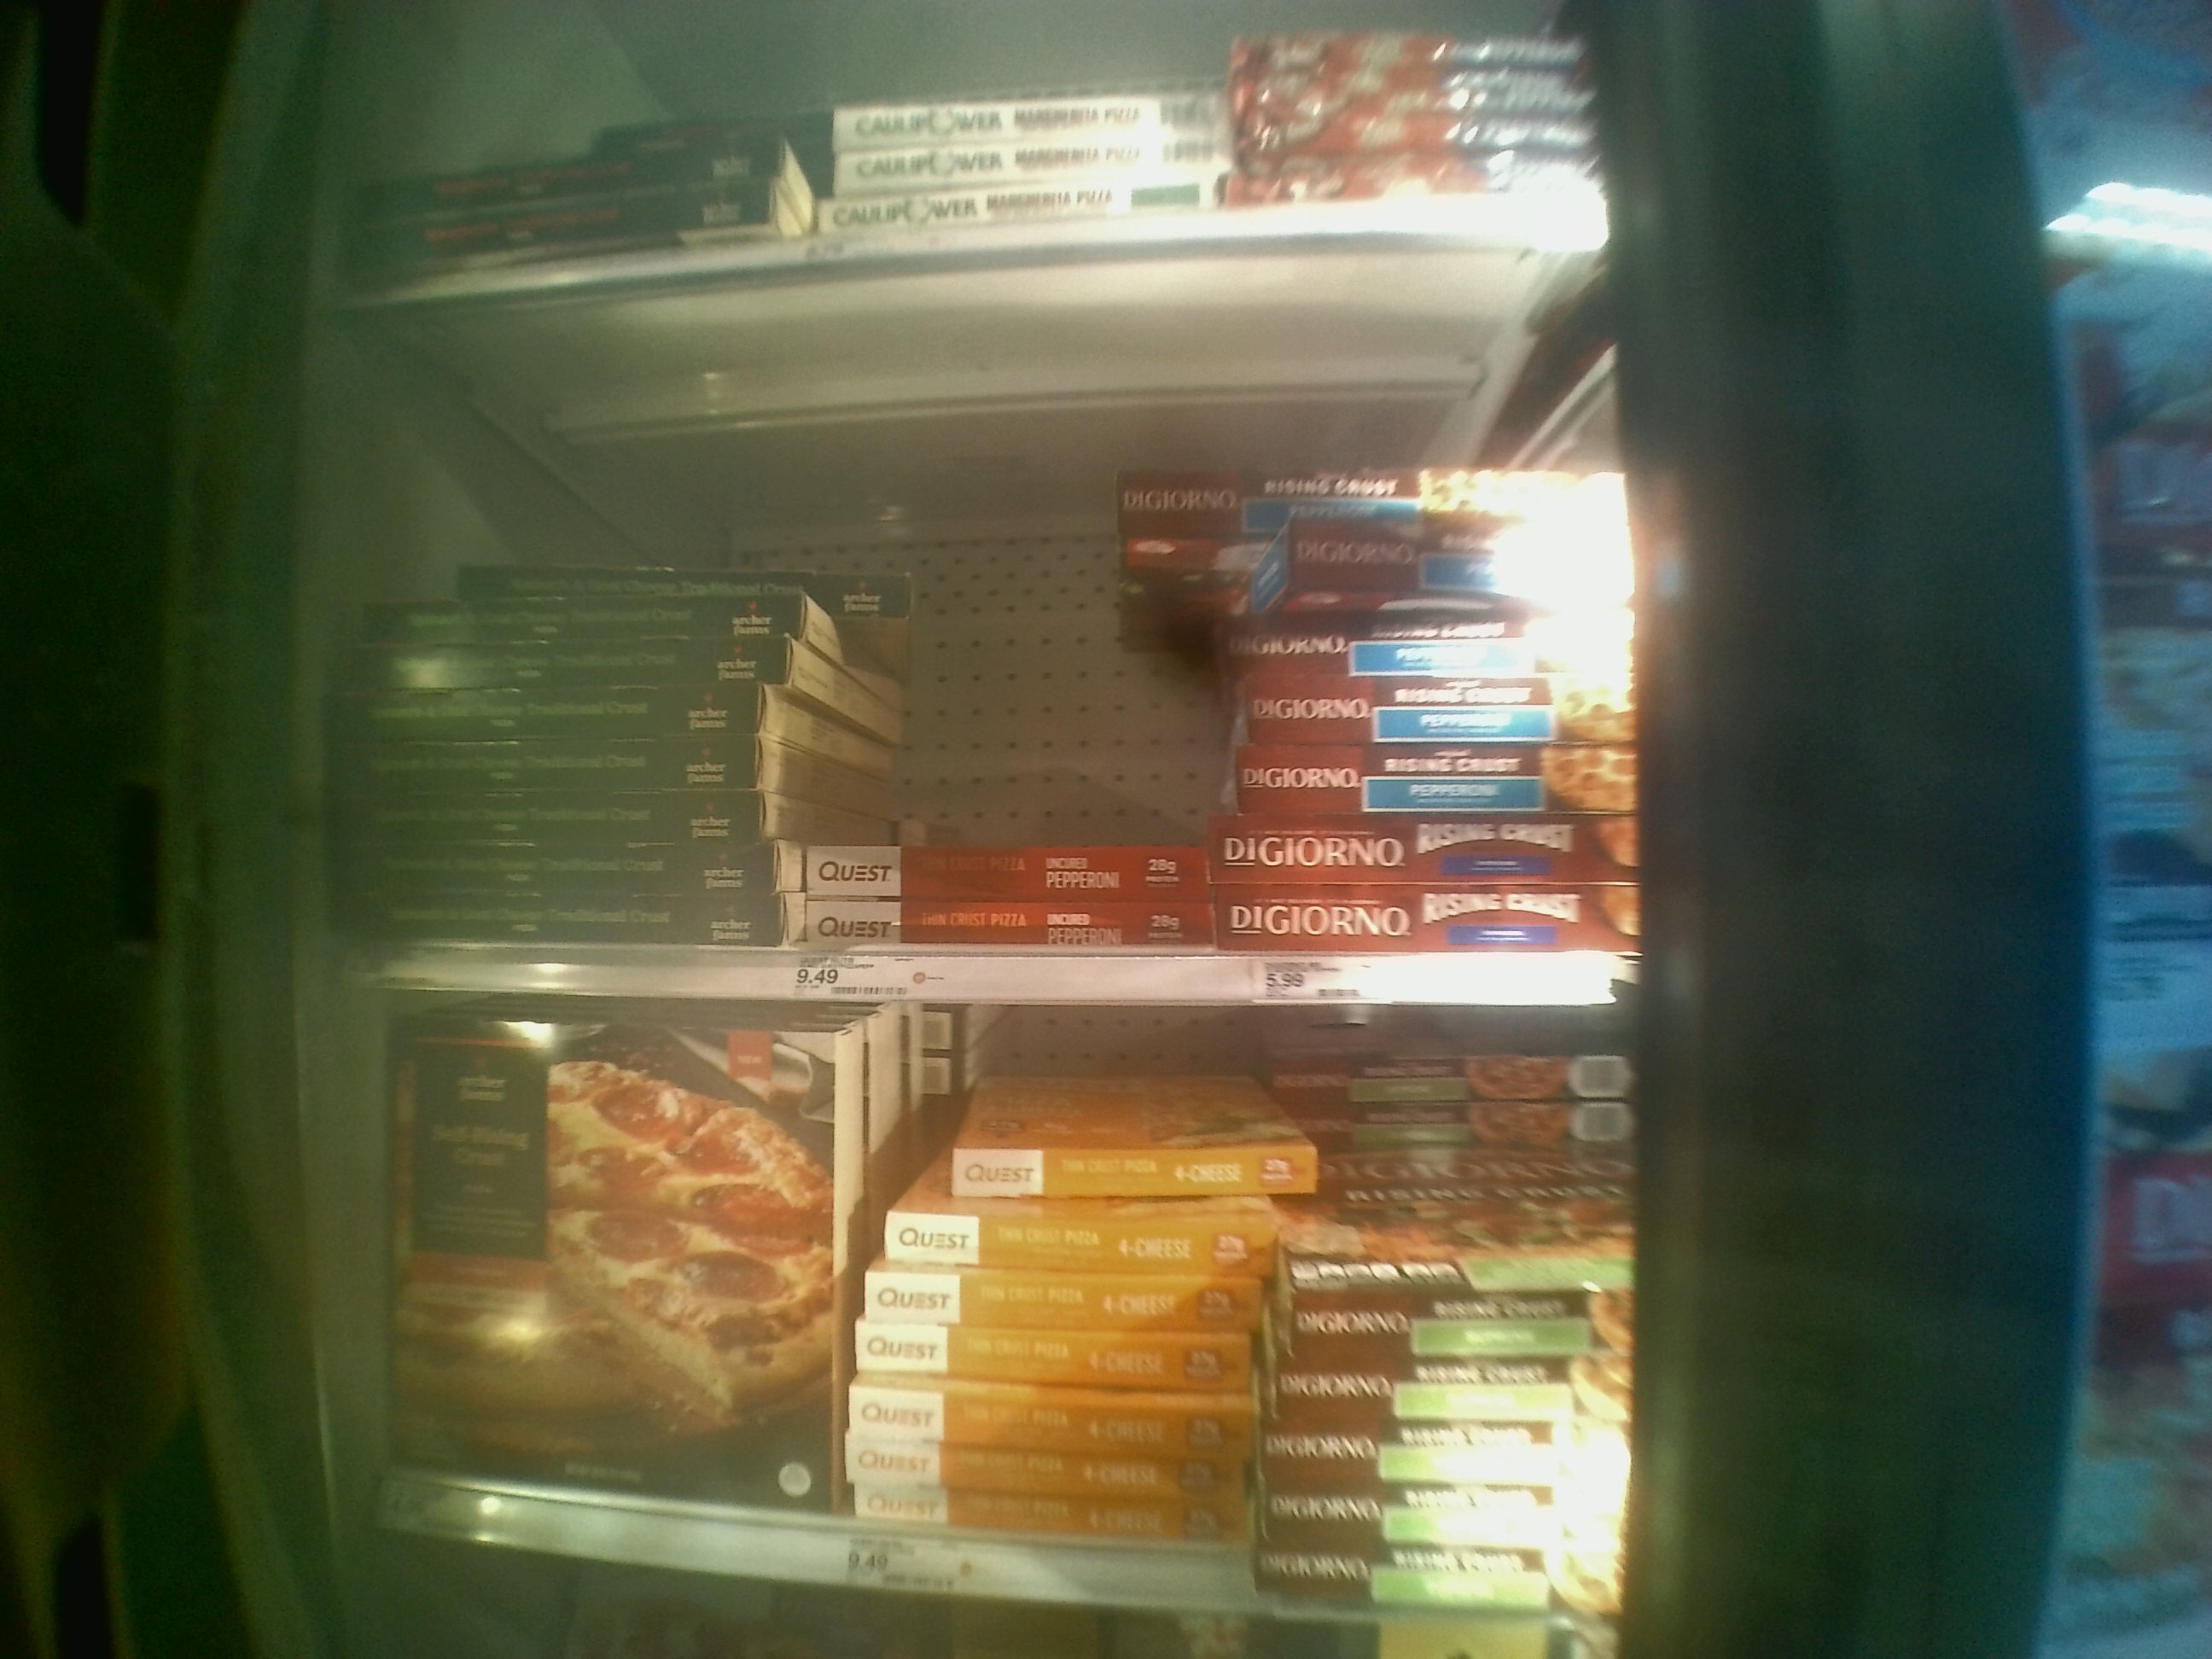pizza: (380, 1033, 822, 1502), (1320, 1145, 1627, 1281), (1123, 458, 1421, 552), (792, 840, 1219, 899), (960, 1065, 1273, 1145), (869, 1265, 1259, 1326), (350, 840, 789, 892), (1261, 1490, 1566, 1561), (1228, 880, 1606, 938), (887, 1215, 1264, 1270), (954, 1145, 1310, 1202), (334, 742, 768, 789), (362, 199, 761, 249), (1254, 1431, 1575, 1493), (810, 903, 1205, 953), (864, 1333, 1237, 1385), (1254, 688, 1627, 741), (350, 904, 792, 948), (1259, 620, 1597, 676), (1205, 544, 1500, 606), (1318, 1049, 1623, 1108), (846, 1391, 1228, 1438), (1244, 762, 1637, 807), (352, 638, 777, 678), (1270, 1373, 1581, 1427), (334, 694, 773, 732), (1296, 1305, 1587, 1361), (827, 91, 1228, 131), (462, 575, 899, 612), (824, 199, 1219, 239), (1259, 1556, 1557, 1608), (326, 795, 766, 829), (848, 1441, 1204, 1483), (855, 1493, 1200, 1535), (1230, 840, 1602, 878), (383, 606, 808, 638), (838, 148, 1230, 174), (451, 166, 784, 181)
